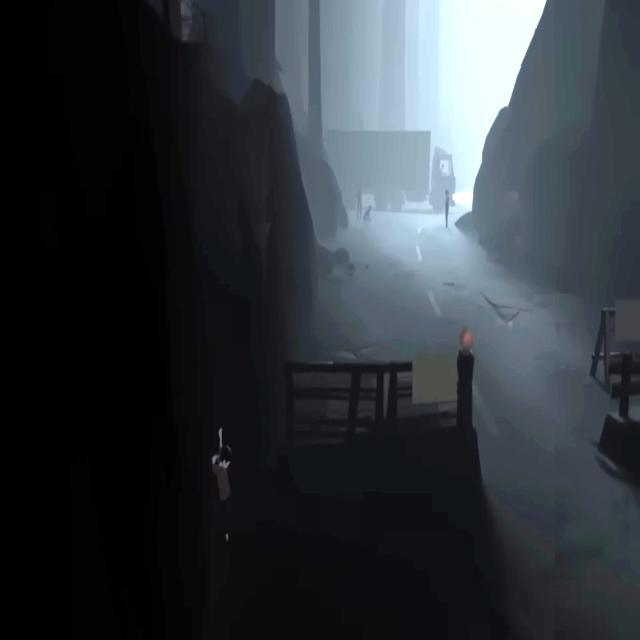boy: (211, 433, 233, 548)
